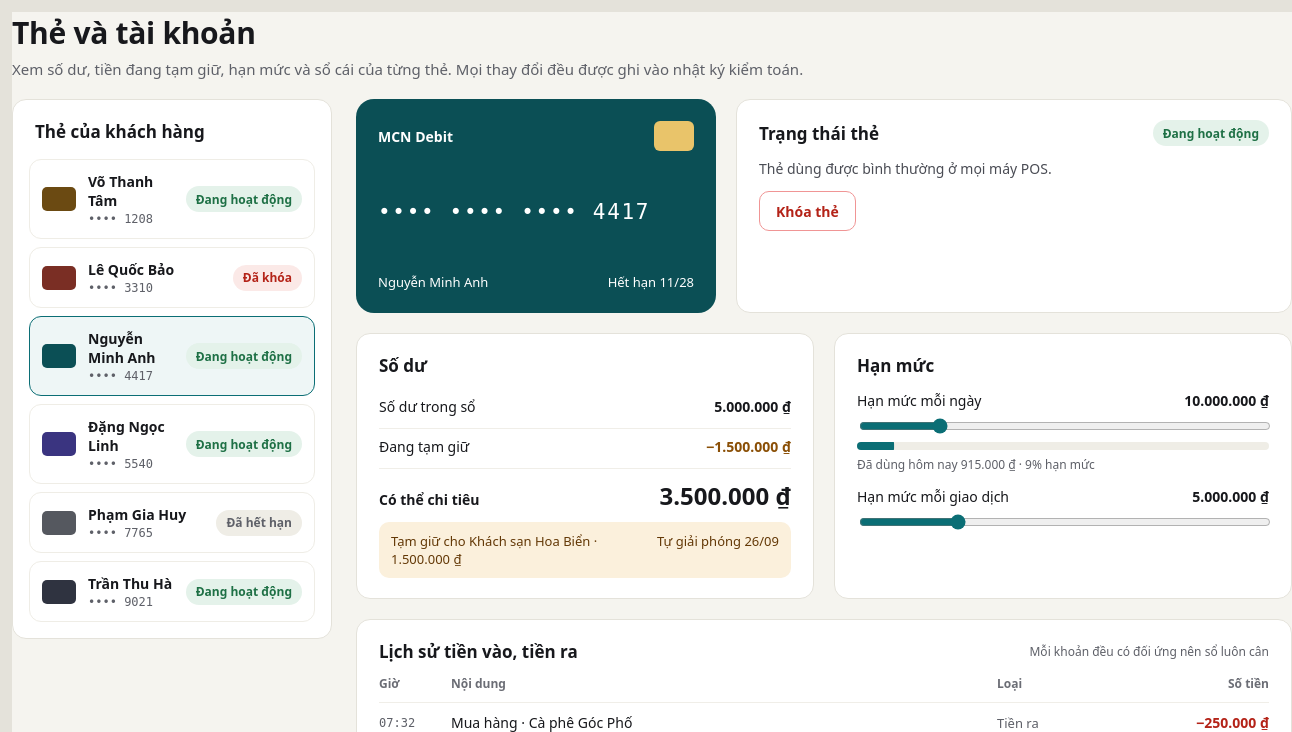
Test case: CardsScreen (MCN-309, as in Cards.dc.html) › blocks only after the inline confirmation, then shows the lock overlay and the issuer's audit entry MCN-309-AC2
What coordinates should you click on to do the following:
click the button "Khóa thẻ"
I would click on:
 (807, 211)
Its box is [759,191,856,231].
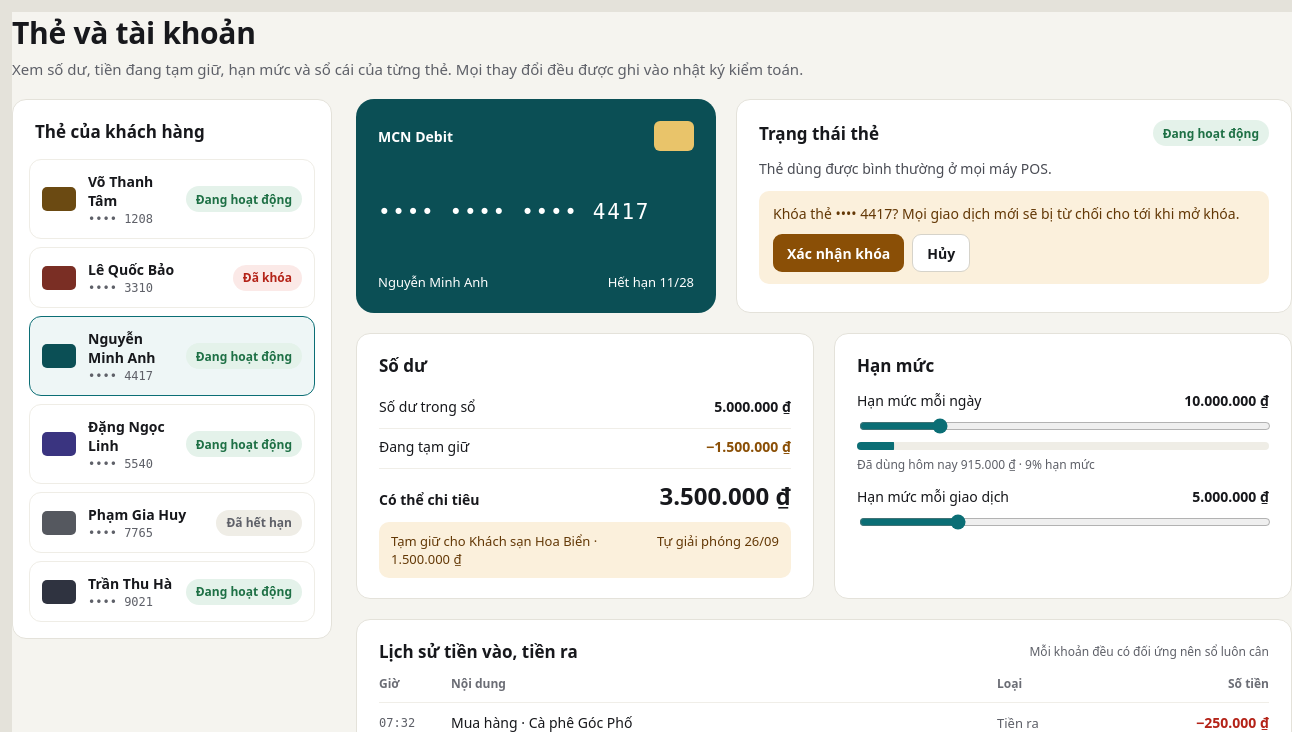
Expected: the text "Thẻ đang bị khóa" is not shown
Now the text "Khóa thẻ •••• 4417? Mọi giao dịch mới sẽ bị từ chối cho tới khi mở khóa." is shown, box [773,203,1255,224]
What coordinates should you click on to do the following:
click the button "Xác nhận khóa"
I would click on:
 (839, 253)
Its box is [773,234,904,272].
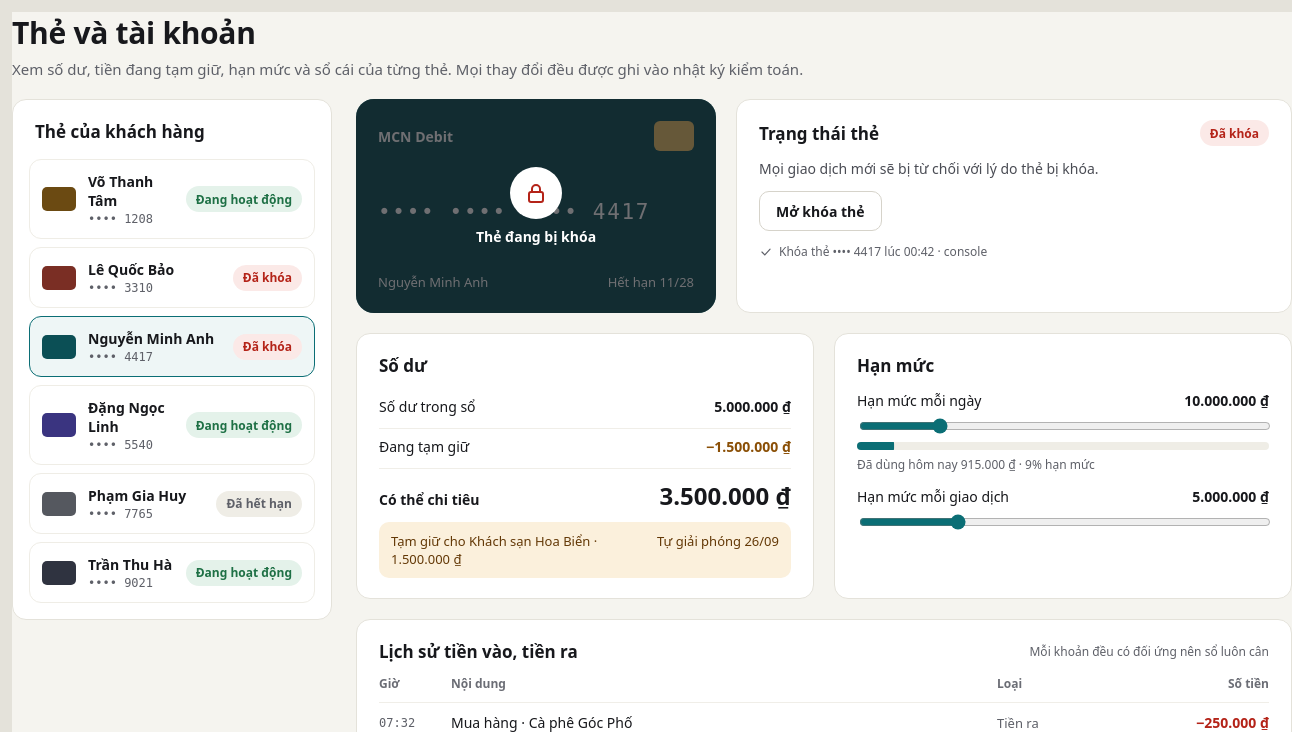
Now the text "Thẻ đang bị khóa" is shown, box [476,226,596,246]
Now the text "Đã khóa" in the row of "Trạng thái thẻ" is shown, box [1210,124,1259,142]
Now the list item "Khóa thẻ •••• 4417 lúc 00:42 · console" is shown, box [759,243,987,260]
